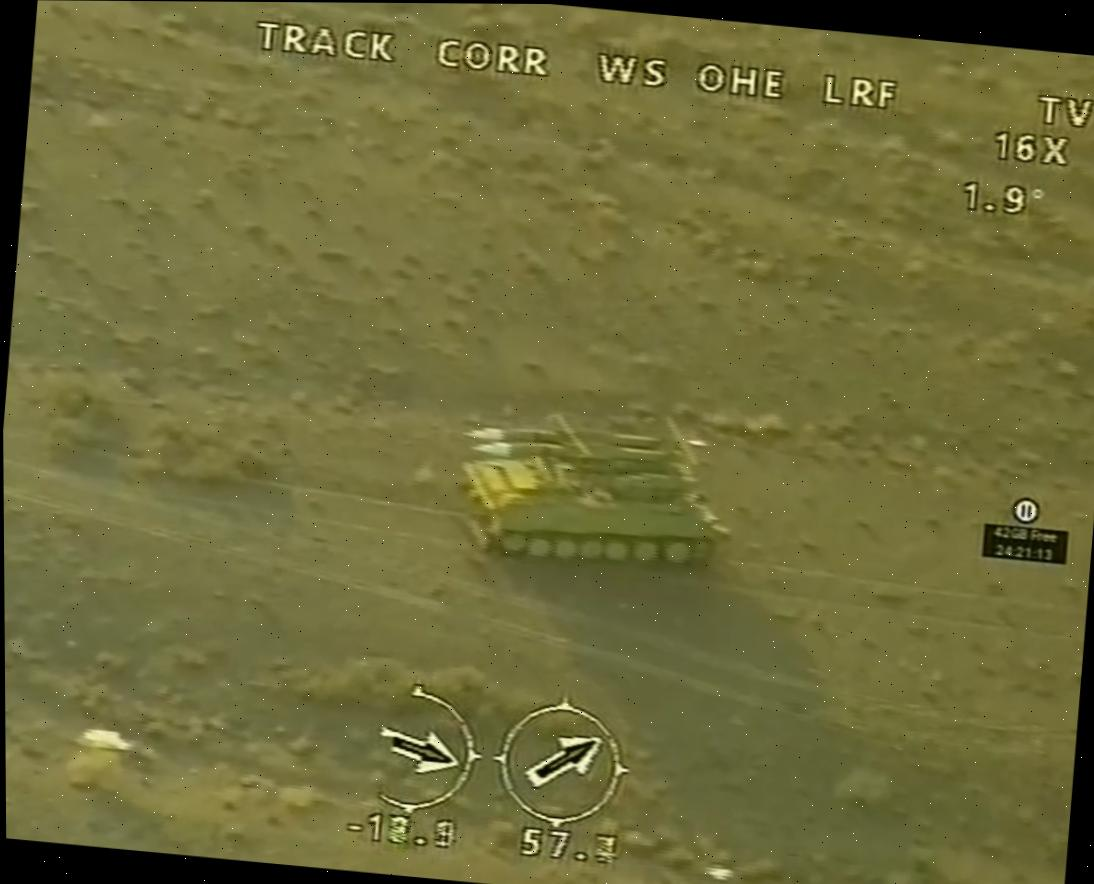armored_car: (444, 388, 746, 579)
